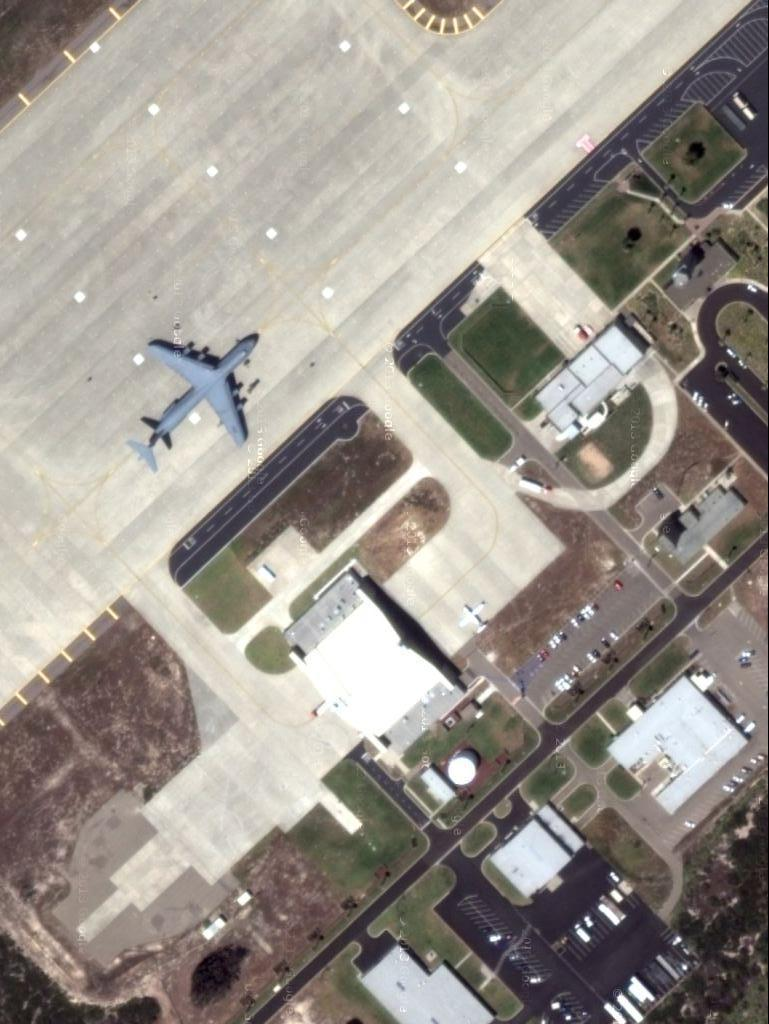KC-135: (123, 329, 264, 477)
